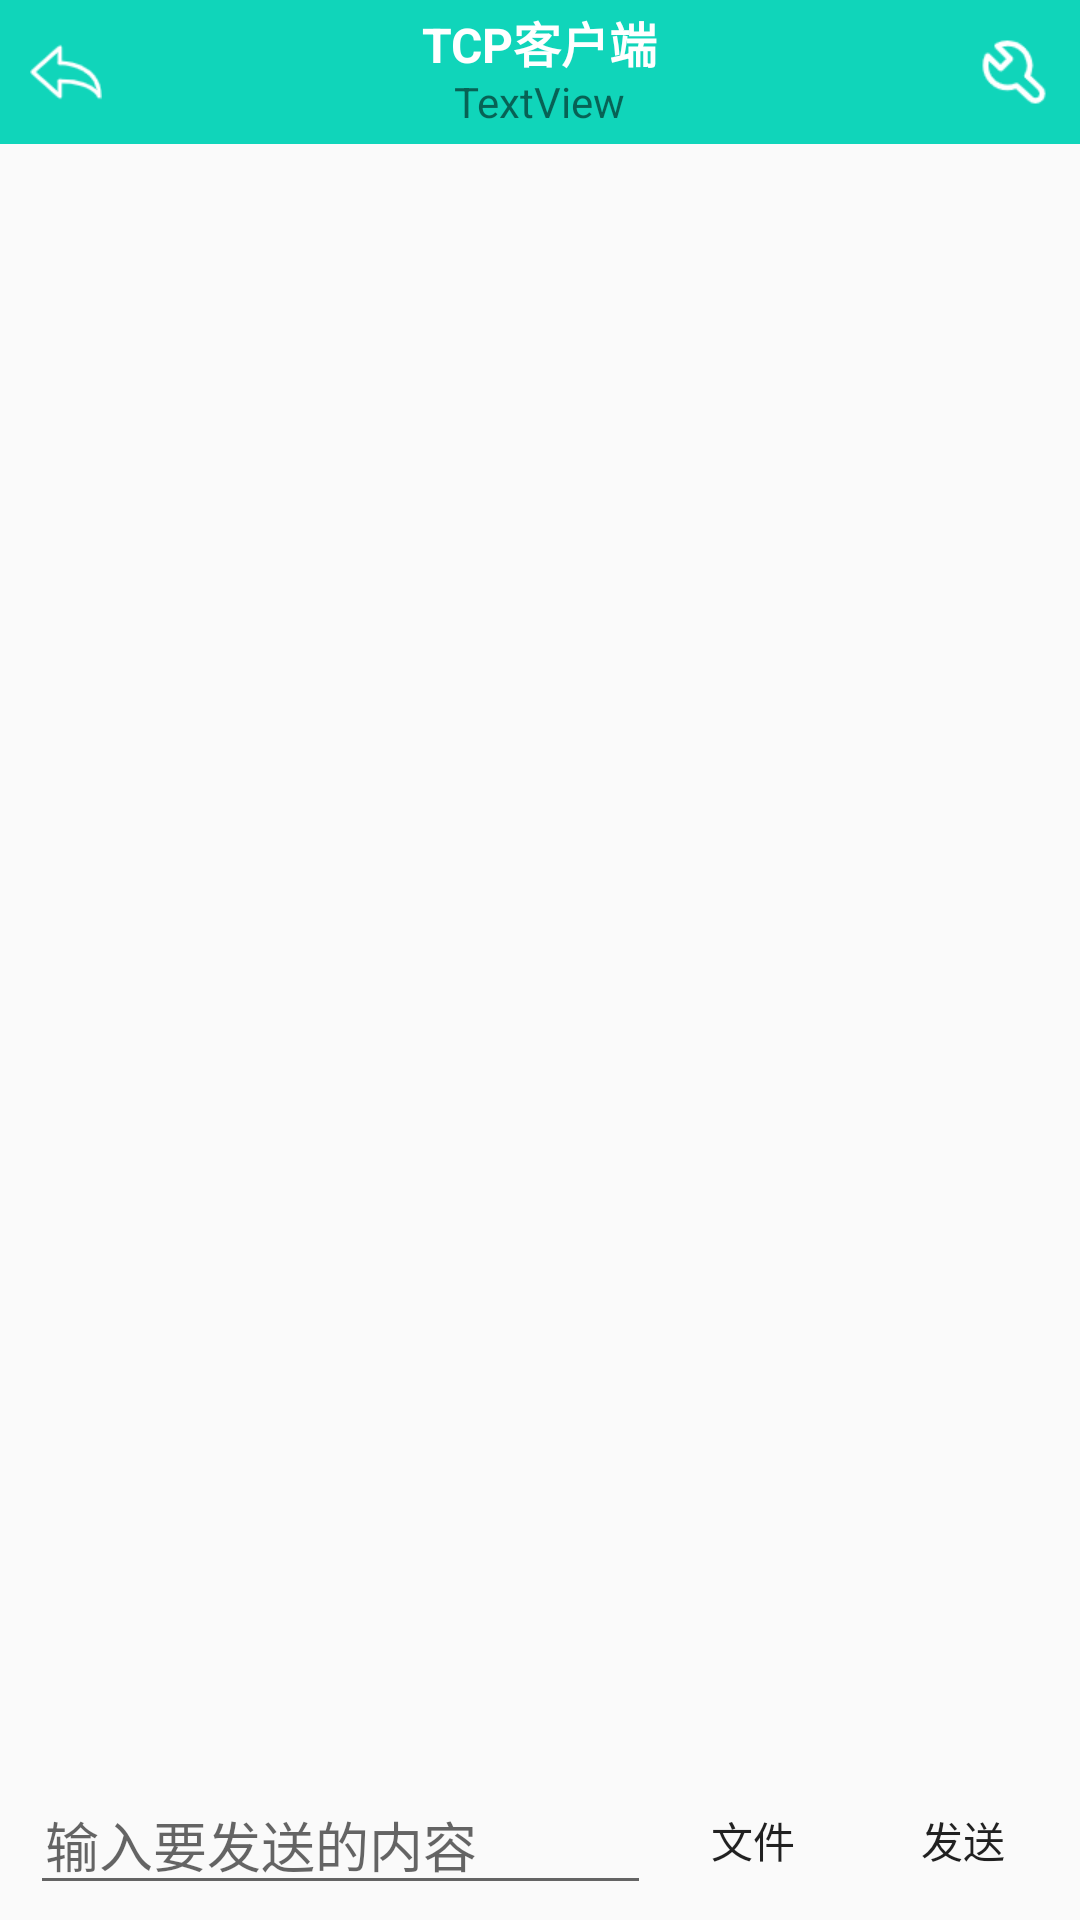

Named icons in this screenshot (1080px x 1920px) and their bounding boxes, (left=x1, top=y1, right=x2, bottom=y2):
back: (left=30, top=45, right=102, bottom=99)
setting: (left=982, top=40, right=1046, bottom=104)
